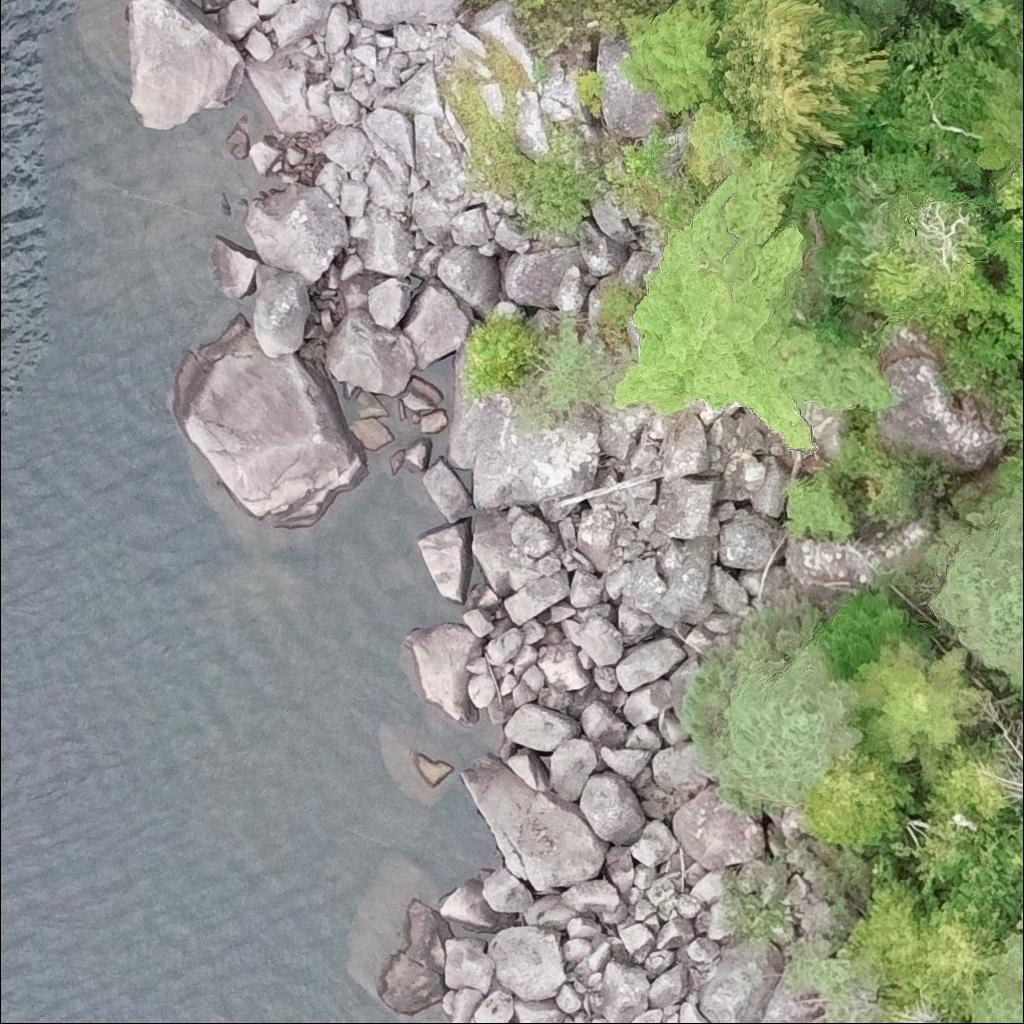crown: (613, 136, 895, 440), (683, 606, 866, 817), (711, 0, 893, 149), (863, 149, 993, 339), (844, 633, 995, 778), (861, 13, 983, 187), (921, 483, 1023, 687), (911, 894, 1008, 1021), (618, 0, 723, 117), (802, 749, 916, 852), (813, 584, 933, 677), (969, 32, 1023, 178), (814, 185, 880, 301), (686, 95, 761, 183), (970, 918, 1023, 1023), (981, 705, 1023, 801), (996, 163, 1023, 232), (935, 0, 980, 9)
